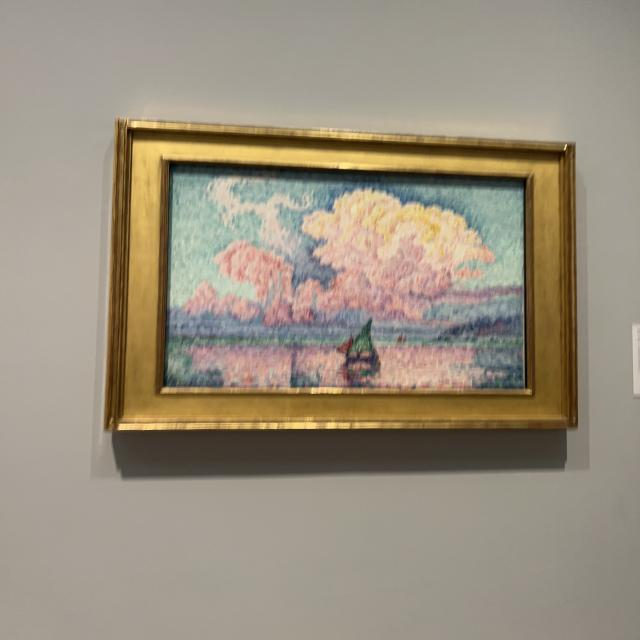sunrise: (170, 174, 522, 385)
